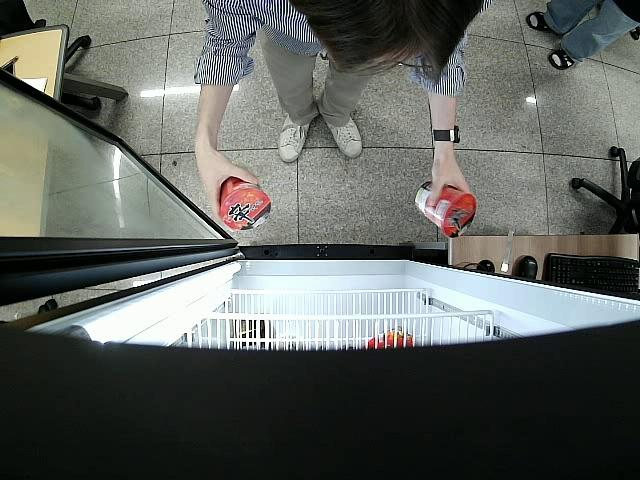00_hand: (195, 146, 259, 232), (429, 157, 473, 205)
02_shinRamen_S: (413, 182, 475, 239), (221, 176, 271, 232)
